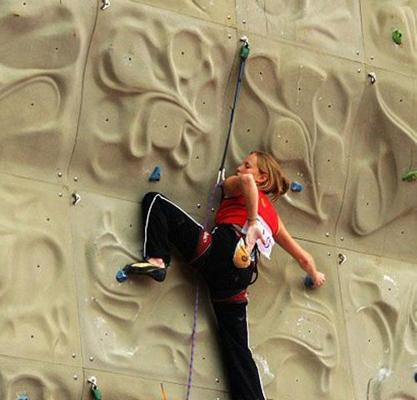person: (123, 151, 327, 400)
